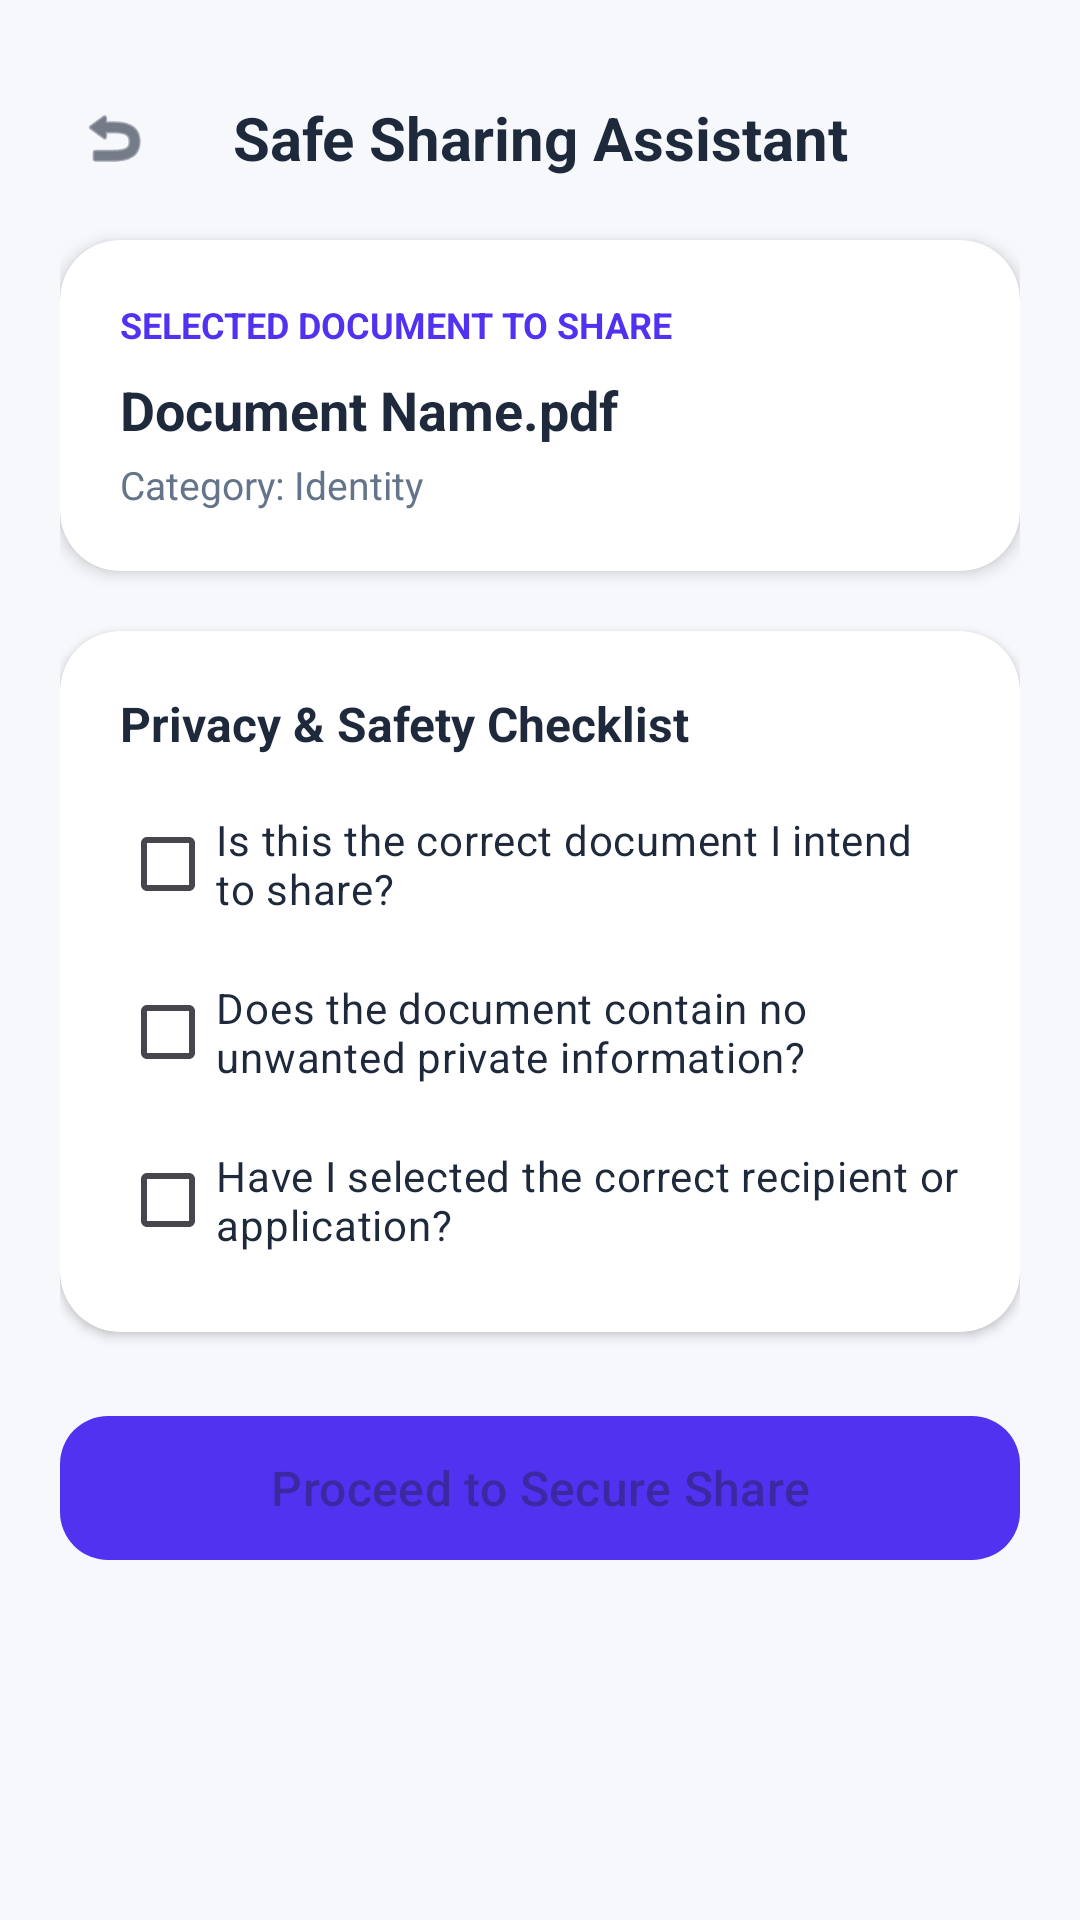

Screen size 1080×1920. Icon name, then its box in pixels as rect(x1, y1, x2, y2):
Back: rect(89, 115, 141, 162)
